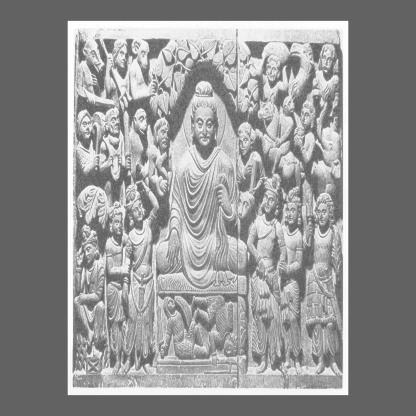buddha-sitting: (156, 81, 247, 289)
